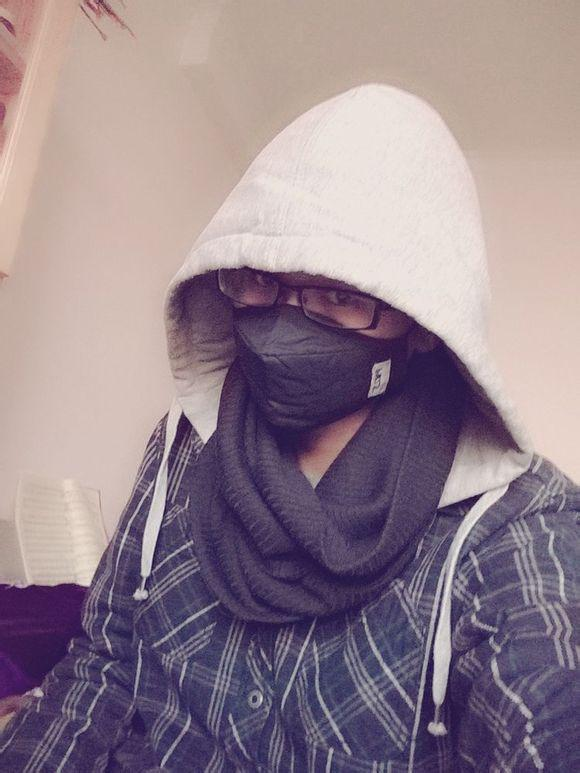OK: (226, 260, 400, 420)
